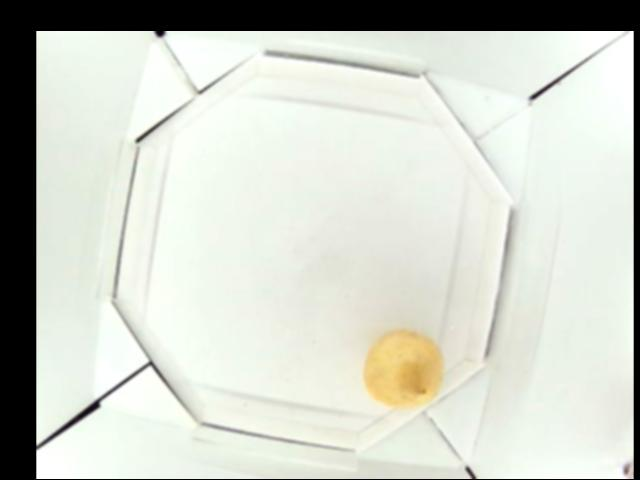Potato: (364, 329, 436, 408)
